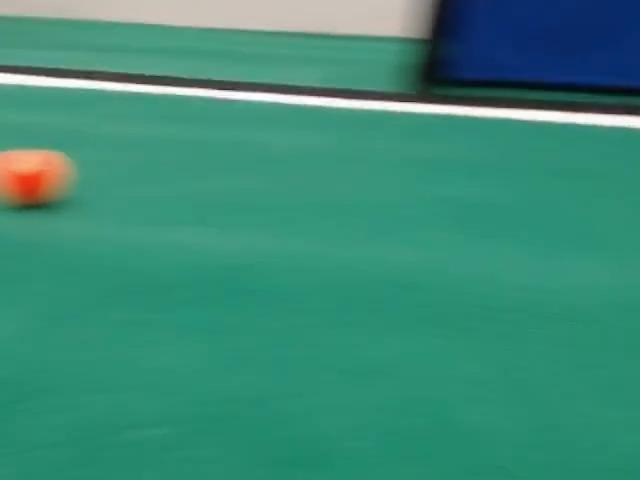Ball: (0, 149, 75, 206)
